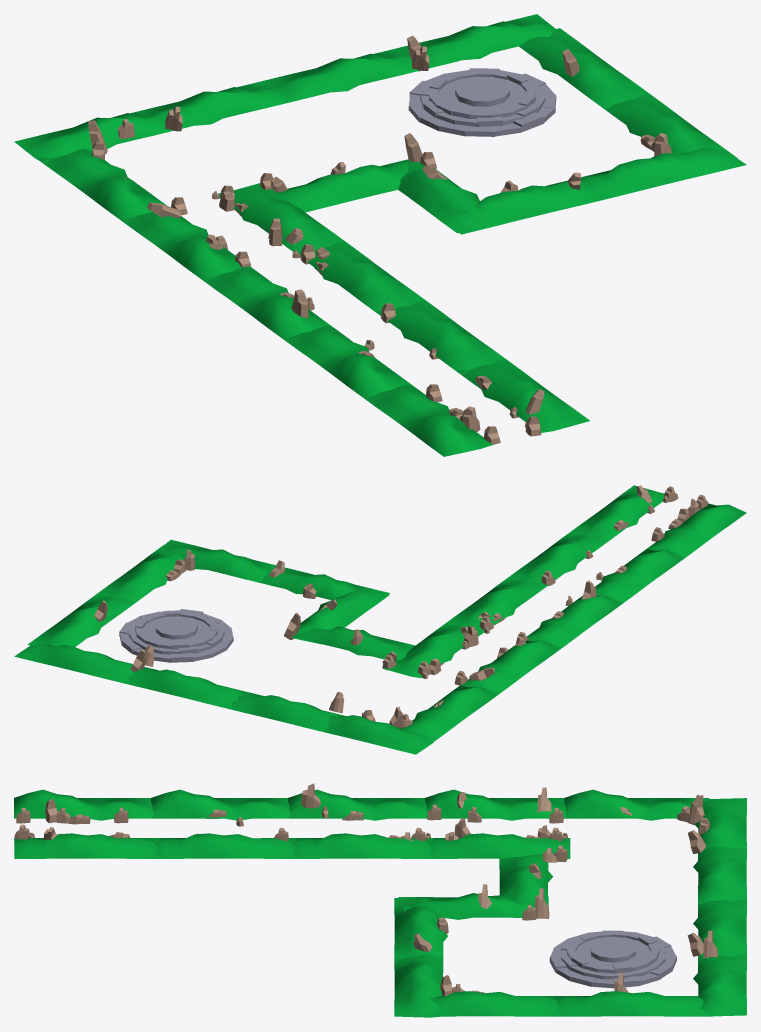
The model's file is gameLevel_rockGrass.glb.
3 renders of one model, top to bottom at view 1: azimuth 30°, elevation 25°; view 2: azimuth 150°, elevation 25°; view 3: azimuth 270°, elevation 25°, orthographic. The views are drawn at different scales.
Visible parts, largest first — view 1: Object_5, Object_6, Object_3; view 2: Object_5, Object_6, Object_3; view 3: Object_5, Object_6, Object_3.
Boxes of the visible parts, x1,y1,x2,y2 form: Object_5: (14, 14, 746, 456); Object_6: (88, 35, 671, 444); Object_3: (408, 68, 556, 136); Object_5: (14, 485, 746, 754); Object_6: (94, 485, 708, 728); Object_3: (119, 609, 233, 662); Object_5: (14, 789, 746, 1017); Object_6: (14, 783, 717, 996); Object_3: (549, 930, 676, 988).
Bounding box in the file's own units: 13.31 × 0.8536 × 18.85.
